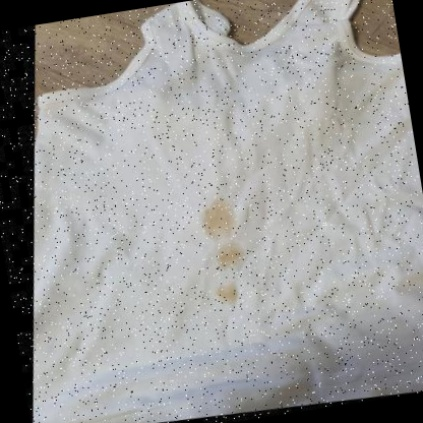coffee: (201, 198, 236, 238), (216, 243, 243, 270), (217, 281, 238, 304)
